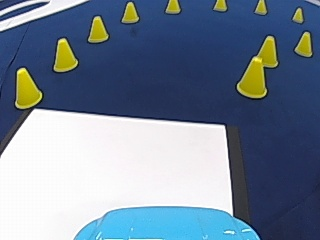cone: (235, 52, 268, 98), (13, 66, 42, 108), (52, 37, 78, 72), (255, 34, 279, 67), (87, 14, 109, 42), (294, 30, 312, 56), (121, 1, 139, 23), (165, 0, 180, 14), (253, 0, 267, 15), (291, 6, 303, 23), (212, 0, 226, 11)
